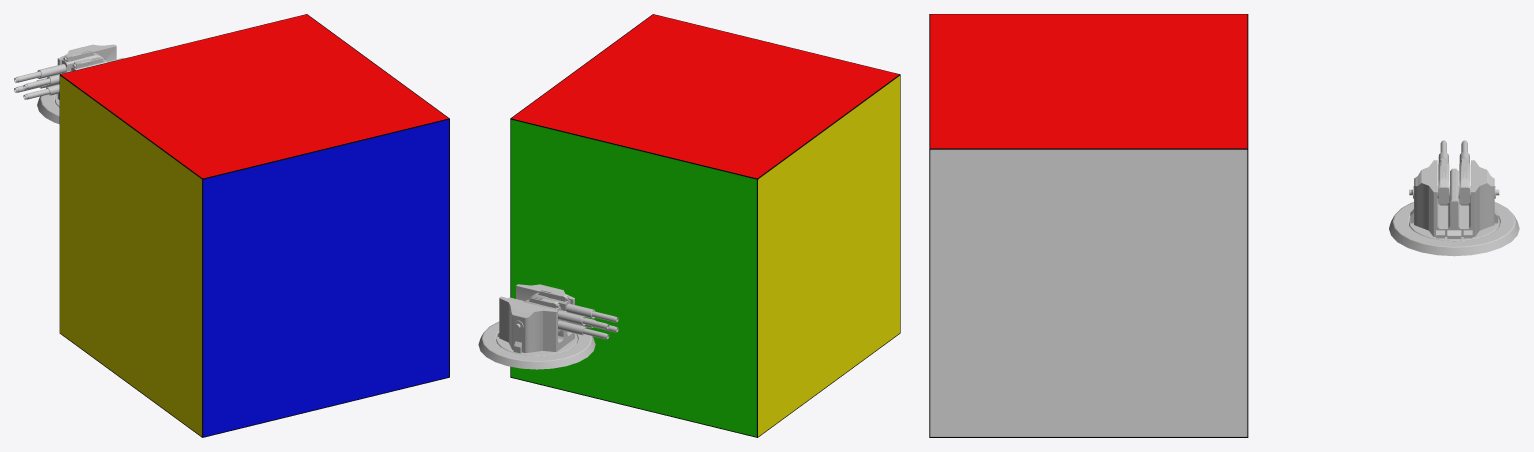
Rendered from colored_cube.obj.
3 renders of one model, left to right at view 1: azimuth 30°, elevation 25°; view 2: azimuth 150°, elevation 25°; view 3: azimuth 270°, elevation 25°, orthographic. The views are drawn at different scales.
Parts seen in each view (by area): view 1: Cube_Cube.015, Sci_Fi_AA_Turret; view 2: Cube_Cube.015, Sci_Fi_AA_Turret; view 3: Cube_Cube.015, Sci_Fi_AA_Turret.
Part boxes in pixels (<box>): Cube_Cube.015: <box>59,14,449,437</box>; Sci_Fi_AA_Turret: <box>14,44,123,124</box>; Cube_Cube.015: <box>510,14,900,437</box>; Sci_Fi_AA_Turret: <box>478,284,618,369</box>; Cube_Cube.015: <box>929,14,1248,437</box>; Sci_Fi_AA_Turret: <box>1389,140,1519,256</box>.
Bounding box in the file's own units: 2 × 2 × 3.7.
Materials: 2 (1 with a texture image).
